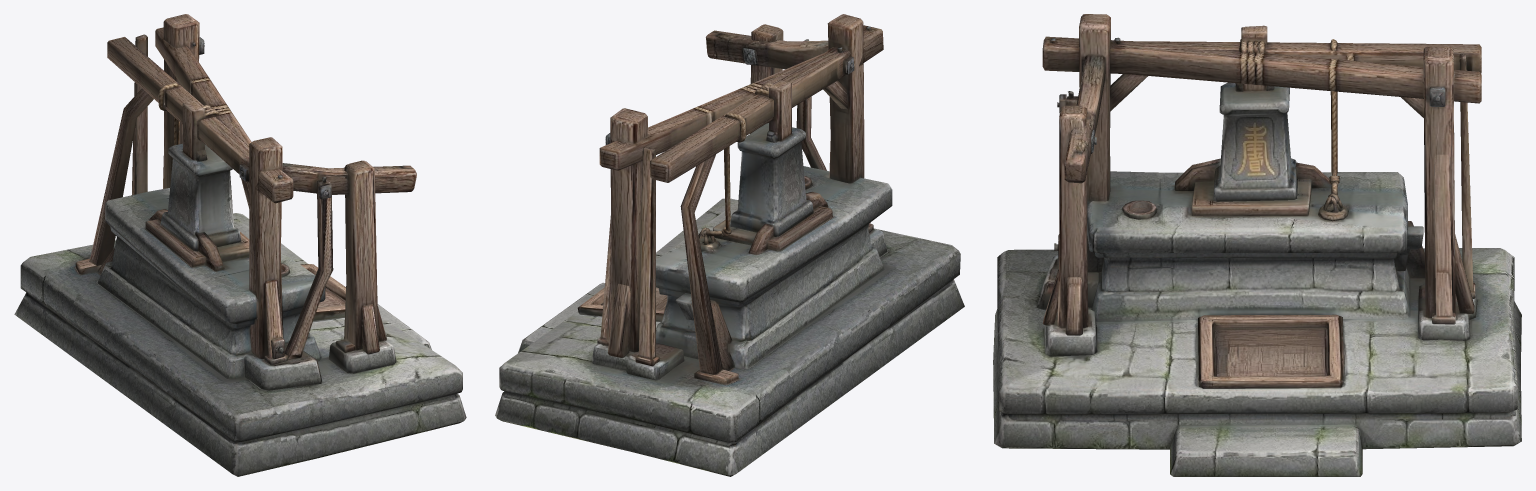
The model's file is 傀儡基站.fbx.
3 views of the same model, side by side, from view 1: azimuth 30°, elevation 25°; view 2: azimuth 150°, elevation 25°; view 3: azimuth 270°, elevation 25° (orthographic). The views are drawn at different scales.
Parts seen in each view (by area): view 1: tripo_node_74eb49d8; view 2: tripo_node_74eb49d8; view 3: tripo_node_74eb49d8.
Boxes of the visible parts, x1,y1,x2,y2 form: tripo_node_74eb49d8: (14,14,466,476); tripo_node_74eb49d8: (495,14,964,476); tripo_node_74eb49d8: (993,14,1521,476).
Bounding box in the file's own units: 0.709 × 0.7168 × 0.998.
